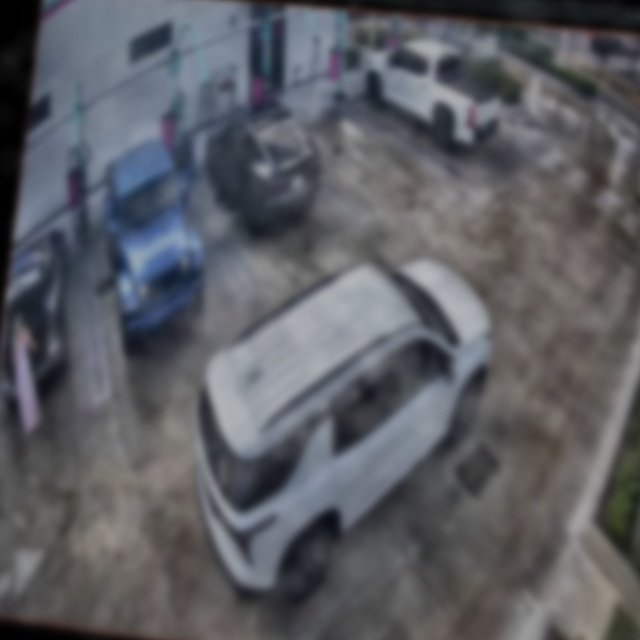Car: (175, 236, 511, 630), (87, 128, 219, 359), (199, 96, 326, 233)
